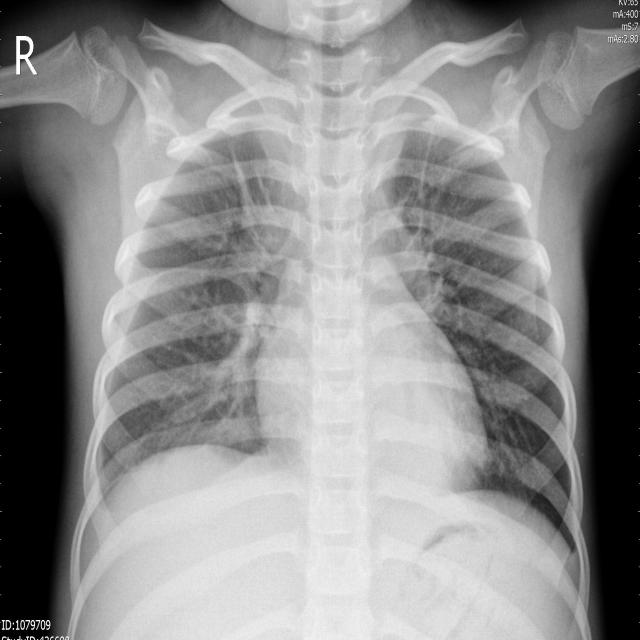high-pneumonia: (370, 80, 466, 315)
low-pneumonia: (208, 74, 304, 267), (191, 293, 270, 445)
